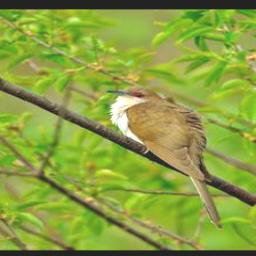Cuckoo: (105, 86, 226, 230)
